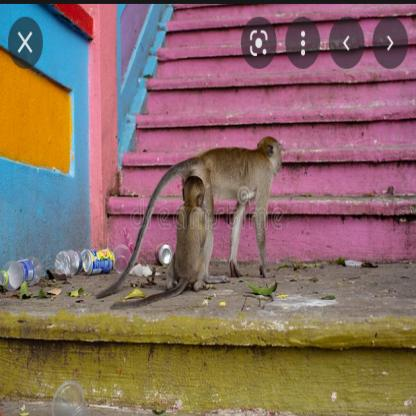monkey: (139, 132, 281, 284)
